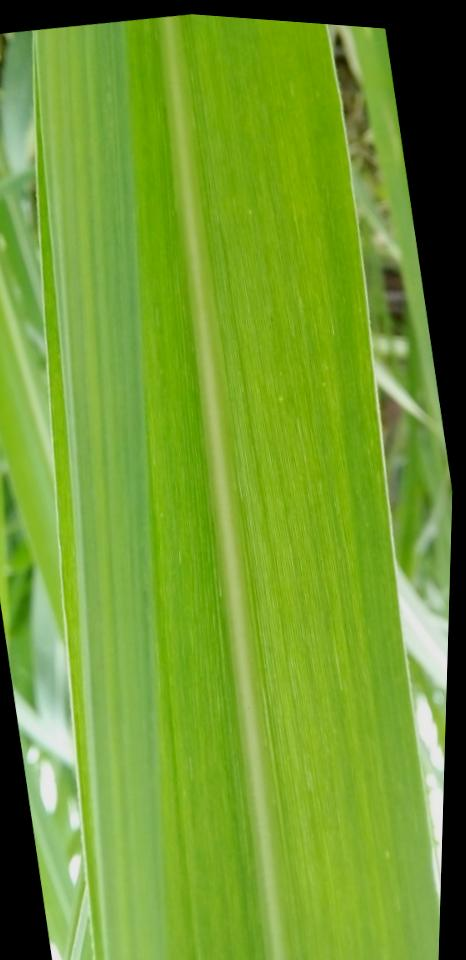Healthy: (35, 14, 440, 960)
